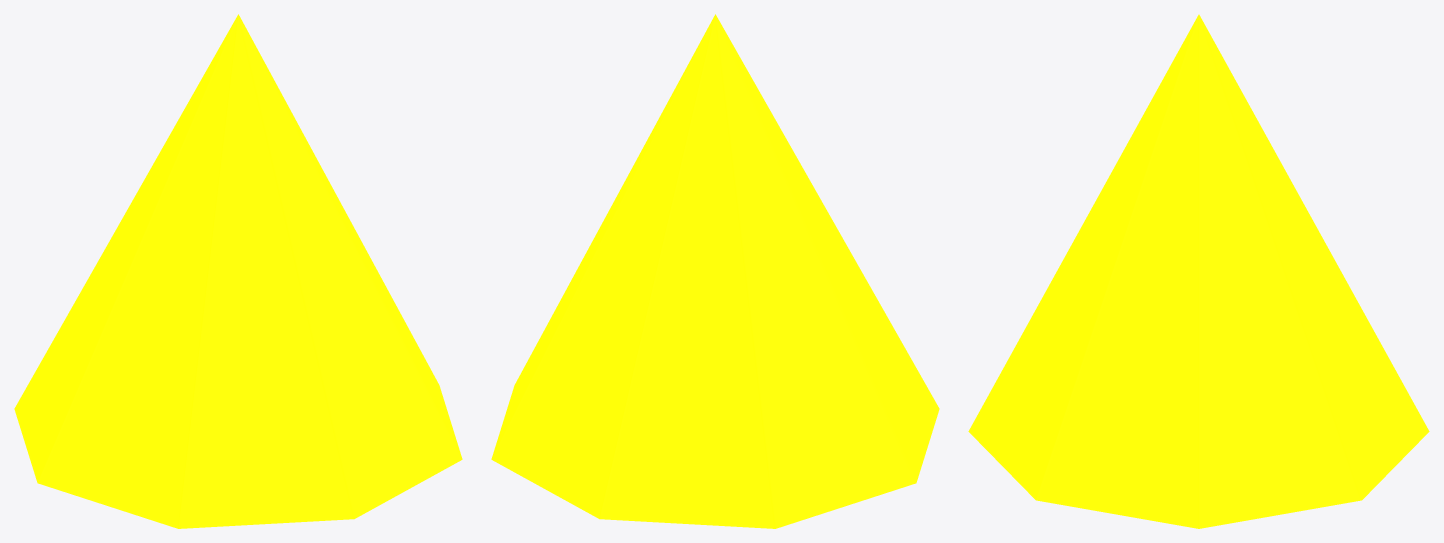
File: Level Two Yellow Spike.fbx
The picture shows the model from 3 angles, left to right: view 1: azimuth 30°, elevation 25°; view 2: azimuth 150°, elevation 25°; view 3: azimuth 270°, elevation 25°; orthographic projection.
Parts seen in each view (by area): view 1: Cone; view 2: Cone; view 3: Cone.
Boxes of the visible parts, x1=… form: Cone: x1=14, y1=14, x2=462, y2=528; Cone: x1=491, y1=14, x2=939, y2=528; Cone: x1=968, y1=14, x2=1429, y2=528.
Bounding box in the file's own units: 201 × 201 × 201.
